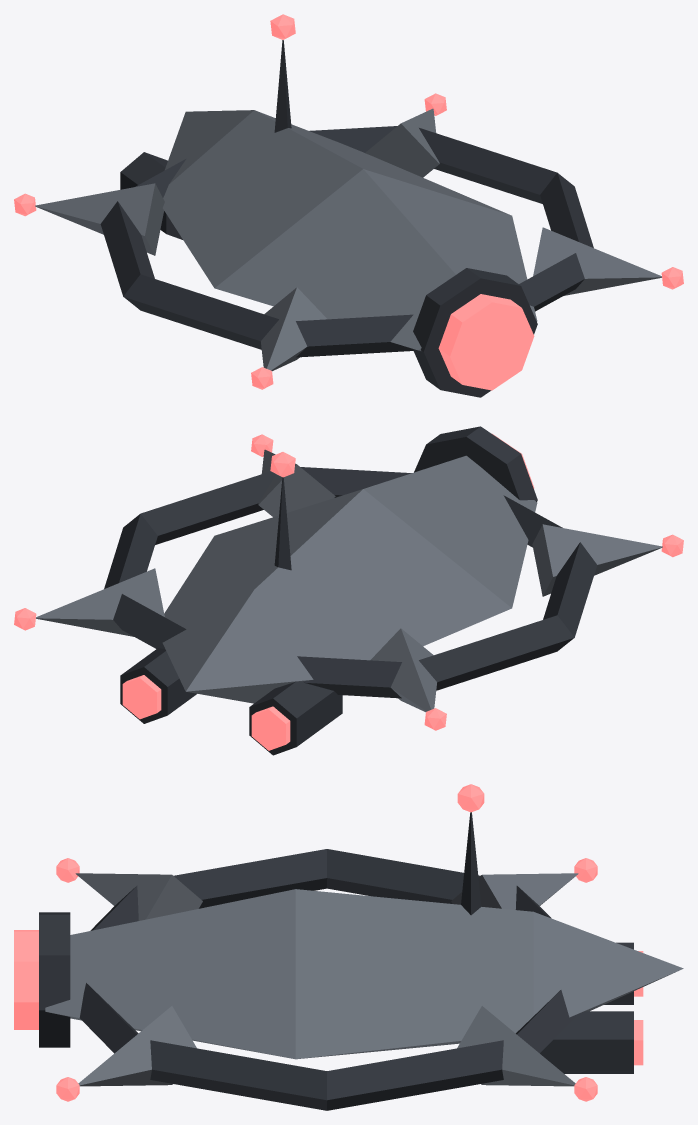
The model's file is SeekerDrone.fbx.
The picture shows the model from 3 angles, top to bottom: view 1: azimuth 30°, elevation 25°; view 2: azimuth 150°, elevation 25°; view 3: azimuth 270°, elevation 25°; orthographic projection. The views are drawn at different scales.
Parts seen in each view (by area): view 1: Hull, SpinRing, Eye; view 2: Hull, SpinRing, Eye; view 3: Hull, SpinRing, Eye.
Boxes of the visible parts, bbox=[...] form: Hull: bbox=[120, 40, 537, 397]; SpinRing: bbox=[14, 93, 683, 389]; Eye: bbox=[270, 14, 534, 390]; Hull: bbox=[120, 426, 537, 755]; SpinRing: bbox=[14, 434, 683, 730]; Eye: bbox=[122, 433, 534, 750]; Hull: bbox=[39, 812, 683, 1073]; SpinRing: bbox=[56, 849, 597, 1110]; Eye: bbox=[14, 784, 643, 1065].
Size of the model in its own units: 0.91 by 0.485 by 1.07.
